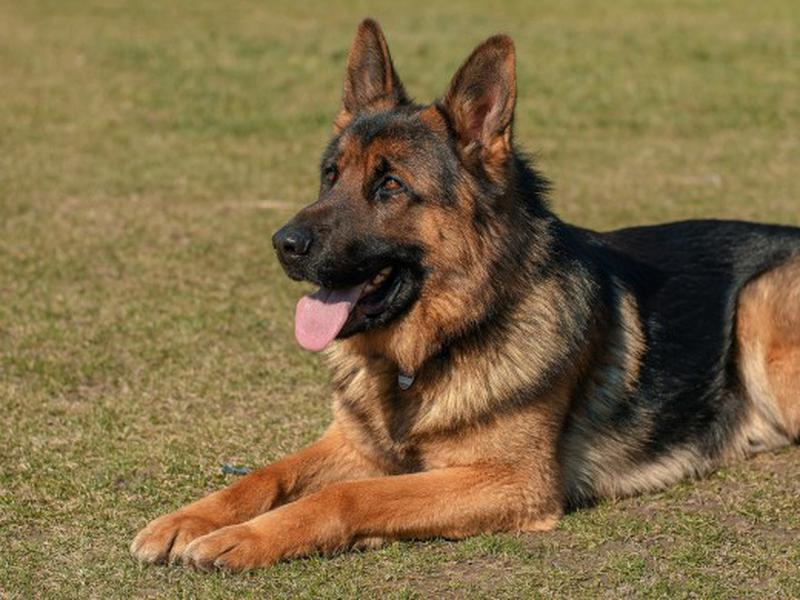dog_down: (130, 17, 800, 571)
